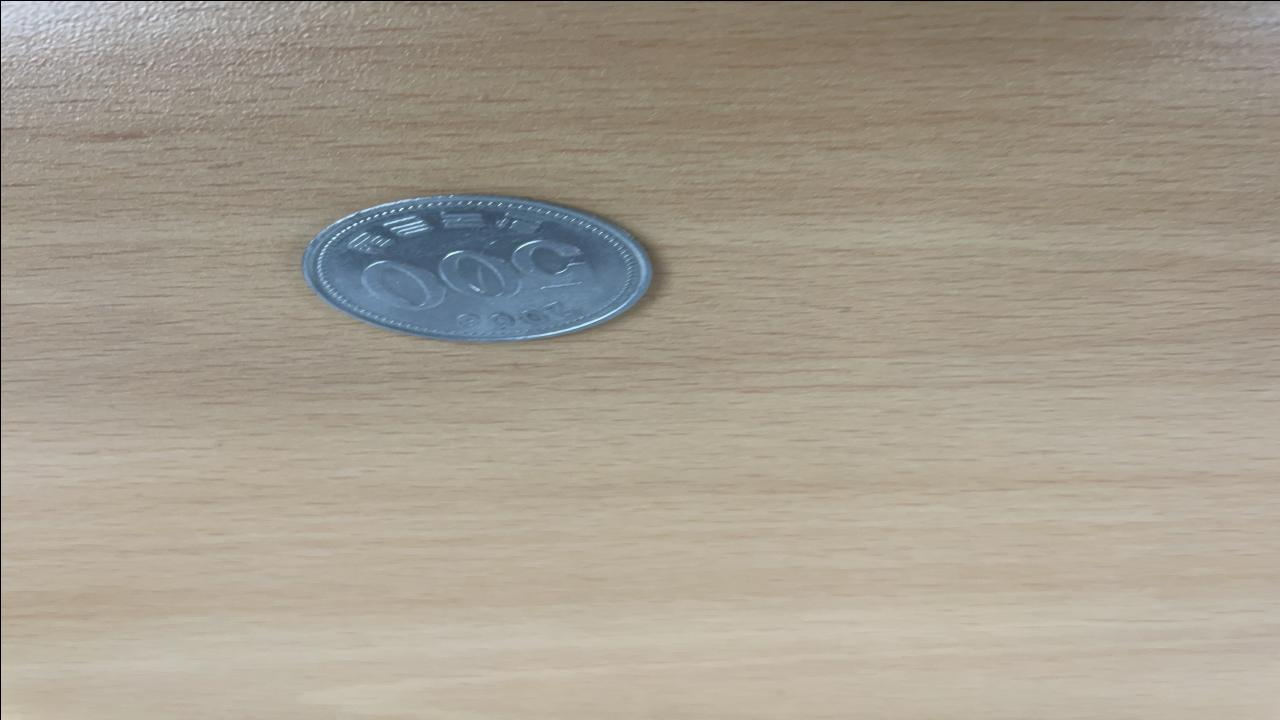coin: (301, 194, 660, 342)
